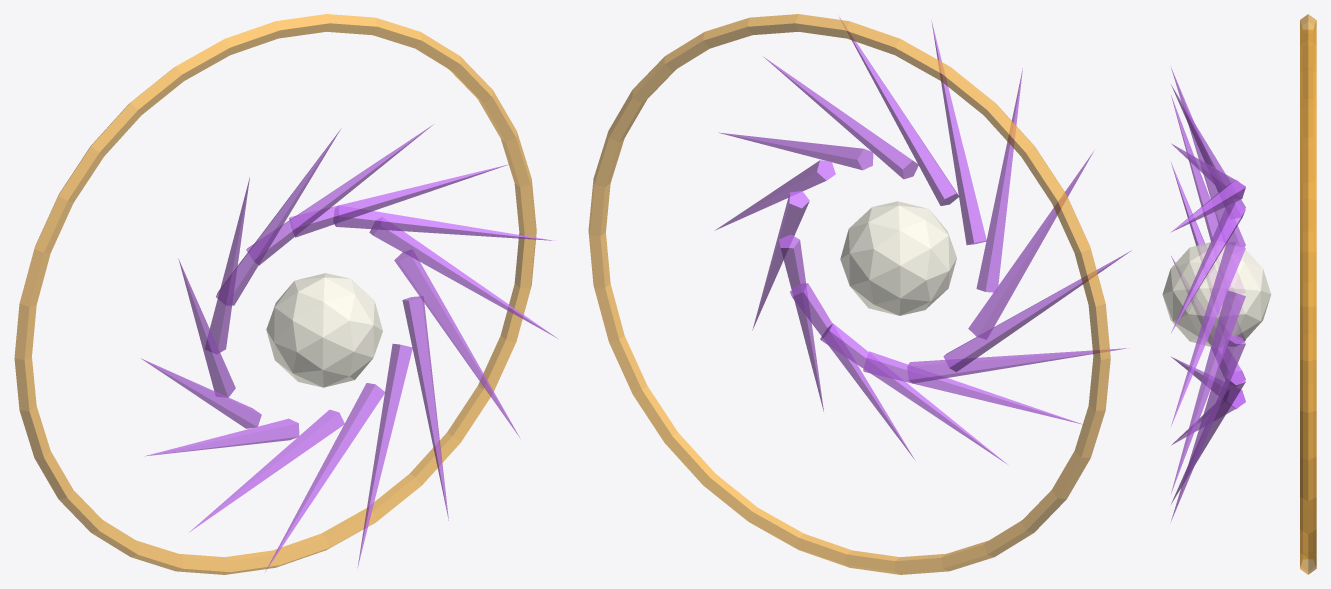
The model's file is vfx_boss_phase_explosion.glb.
3 views of the same model, side by side, from view 1: azimuth 30°, elevation 25°; view 2: azimuth 150°, elevation 25°; view 3: azimuth 270°, elevation 25° (orthographic). The views are drawn at different scales.
Parts seen in each view (by area): view 1: phase_ring, core, burst_ray_0, burst_ray_3, burst_ray_4, burst_ray_13, burst_ray_1, burst_ray_5, burst_ray_12, burst_ray_2, burst_ray_6, burst_ray_11 (+4 smaller); view 2: phase_ring, core, burst_ray_7, burst_ray_10, burst_ray_11, burst_ray_6, burst_ray_8, burst_ray_12, burst_ray_5, burst_ray_9, burst_ray_13, burst_ray_4 (+4 smaller); view 3: phase_ring, core, burst_ray_1, burst_ray_0, burst_ray_2, burst_ray_7, burst_ray_3, burst_ray_13, burst_ray_8, burst_ray_6, burst_ray_5, burst_ray_4 (+4 smaller).
Boxes of the visible parts, <box> form: phase_ring: <box>14,14,536,574</box>; core: <box>266,273,382,387</box>; burst_ray_0: <box>402,296,448,520</box>; burst_ray_3: <box>334,206,554,240</box>; burst_ray_4: <box>289,164,510,237</box>; burst_ray_13: <box>357,343,412,567</box>; burst_ray_1: <box>394,250,520,438</box>; burst_ray_5: <box>246,124,433,265</box>; burst_ray_12: <box>265,383,384,571</box>; burst_ray_2: <box>369,217,557,338</box>; burst_ray_6: <box>216,128,341,305</box>; burst_ray_11: <box>189,409,344,532</box>; phase_ring: <box>588,14,1110,574</box>; core: <box>840,201,956,315</box>; burst_ray_7: <box>976,68,1022,292</box>; burst_ray_10: <box>907,348,1128,383</box>; burst_ray_11: <box>863,351,1082,424</box>; burst_ray_6: <box>931,21,986,245</box>; burst_ray_8: <box>968,150,1094,339</box>; burst_ray_12: <box>820,323,1007,464</box>; burst_ray_5: <box>839,17,959,205</box>; burst_ray_9: <box>943,250,1131,372</box>; burst_ray_13: <box>790,283,915,460</box>; burst_ray_4: <box>763,56,918,179</box>; phase_ring: <box>1300,14,1316,574</box>; core: <box>1162,241,1271,347</box>; burst_ray_1: <box>1170,290,1245,494</box>; burst_ray_0: <box>1170,334,1245,522</box>; burst_ray_2: <box>1170,242,1245,427</box>; burst_ray_7: <box>1170,66,1245,246</box>; burst_ray_3: <box>1171,202,1245,332</box>; burst_ray_13: <box>1171,370,1245,503</box>; burst_ray_8: <box>1170,94,1244,293</box>; burst_ray_6: <box>1171,85,1245,218</box>; burst_ray_5: <box>1171,143,1245,198</box>; burst_ray_4: <box>1171,179,1245,232</box>.
Size of the model in its own units: 2.89 by 2.89 by 0.7928.
